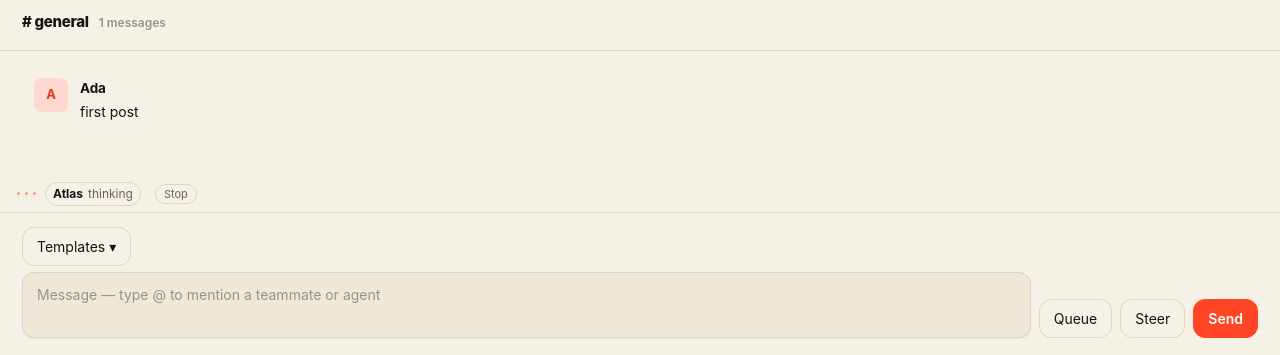
Test: MessagePane › cancels a running session from the in-channel Stop button
Expected: the text "first post" is shown, [80, 103, 139, 120]
Click the button with aria-label "stop this run": (176, 194) [155, 184, 197, 204]
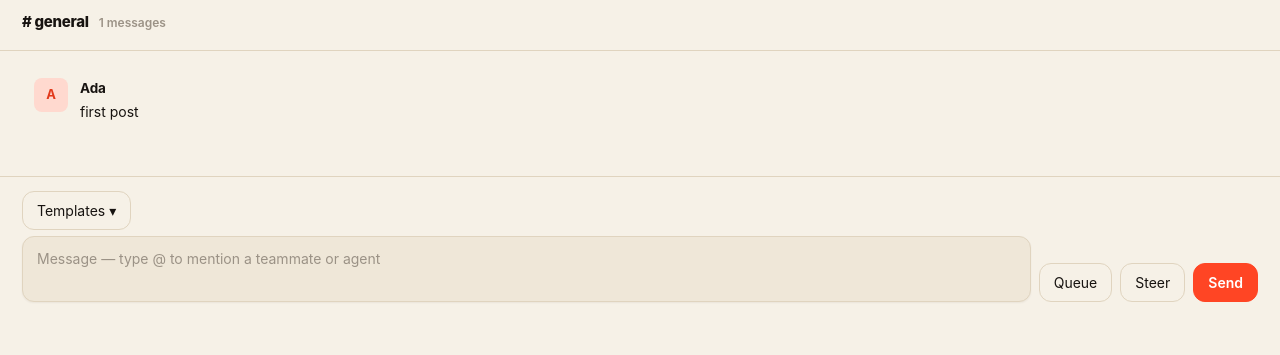
Result: the text "thinking" is gone
